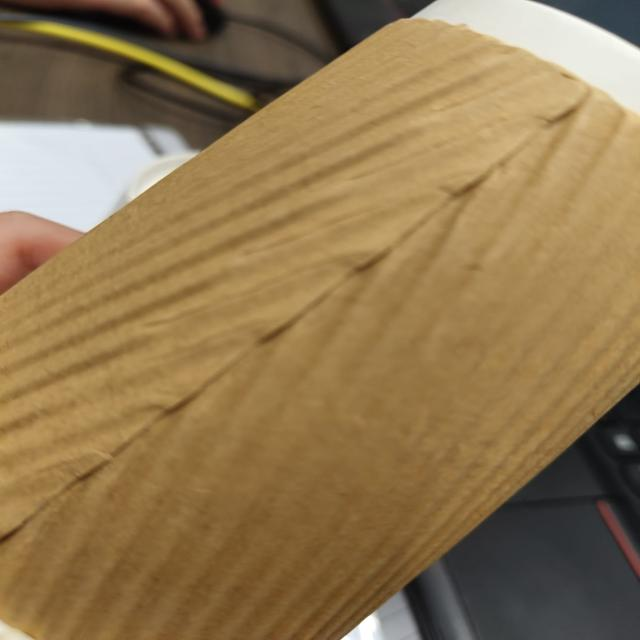Browncup: (0, 2, 636, 640)
